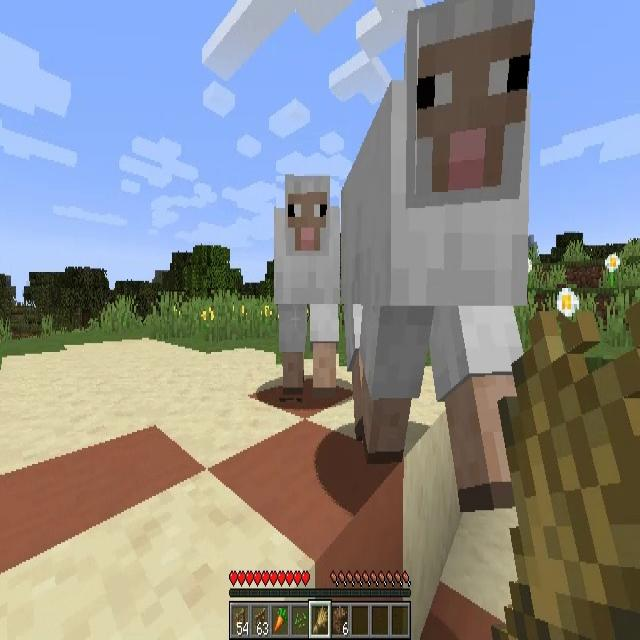flower: (557, 284, 577, 322), (604, 256, 620, 286), (200, 308, 214, 328), (526, 251, 533, 281)
sheep: (342, 0, 535, 509), (276, 176, 339, 398)
